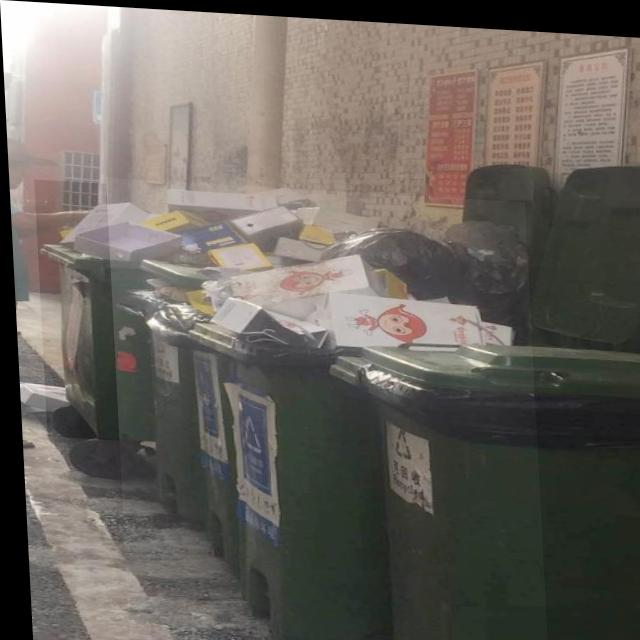garbage_bin: (324, 329, 640, 640)
overflow: (104, 177, 542, 640), (33, 179, 149, 441)
